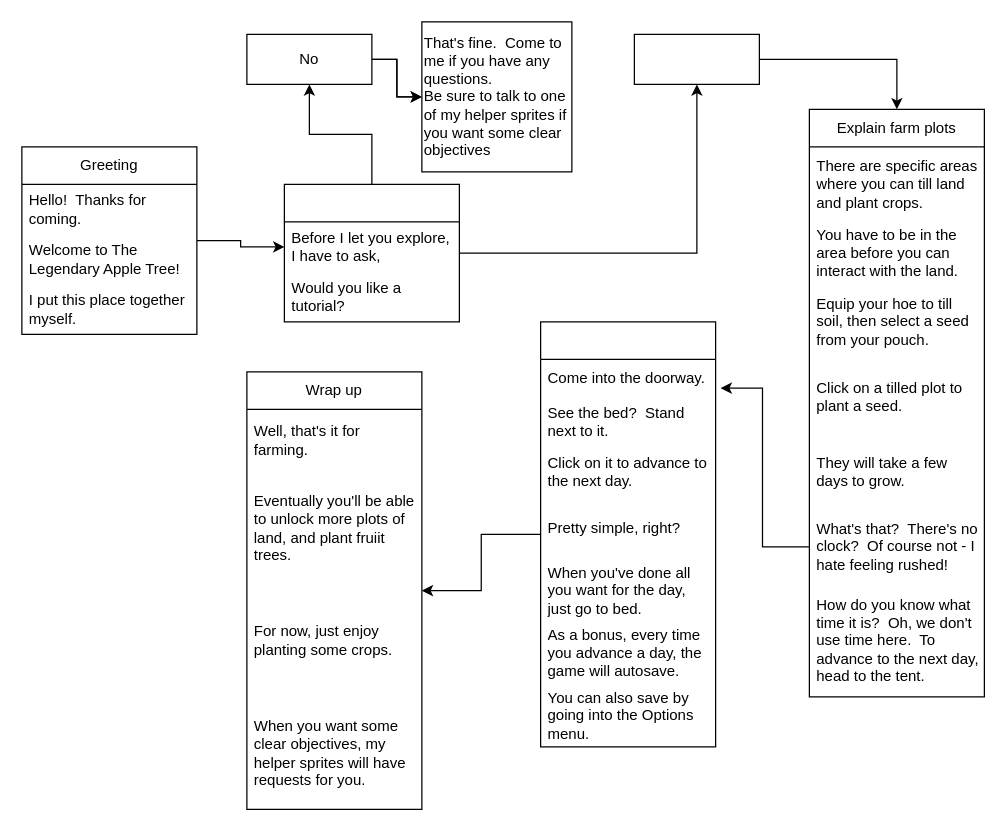
This 1006x831 diagram has some shape labels left out. The box of each missing label's shape, as (x1, y1, x2, y2) in pixels:
Ask for tutorial: (283, 183, 459, 322)
Explain the tent: (539, 321, 716, 747)
Yes: (633, 33, 759, 84)
